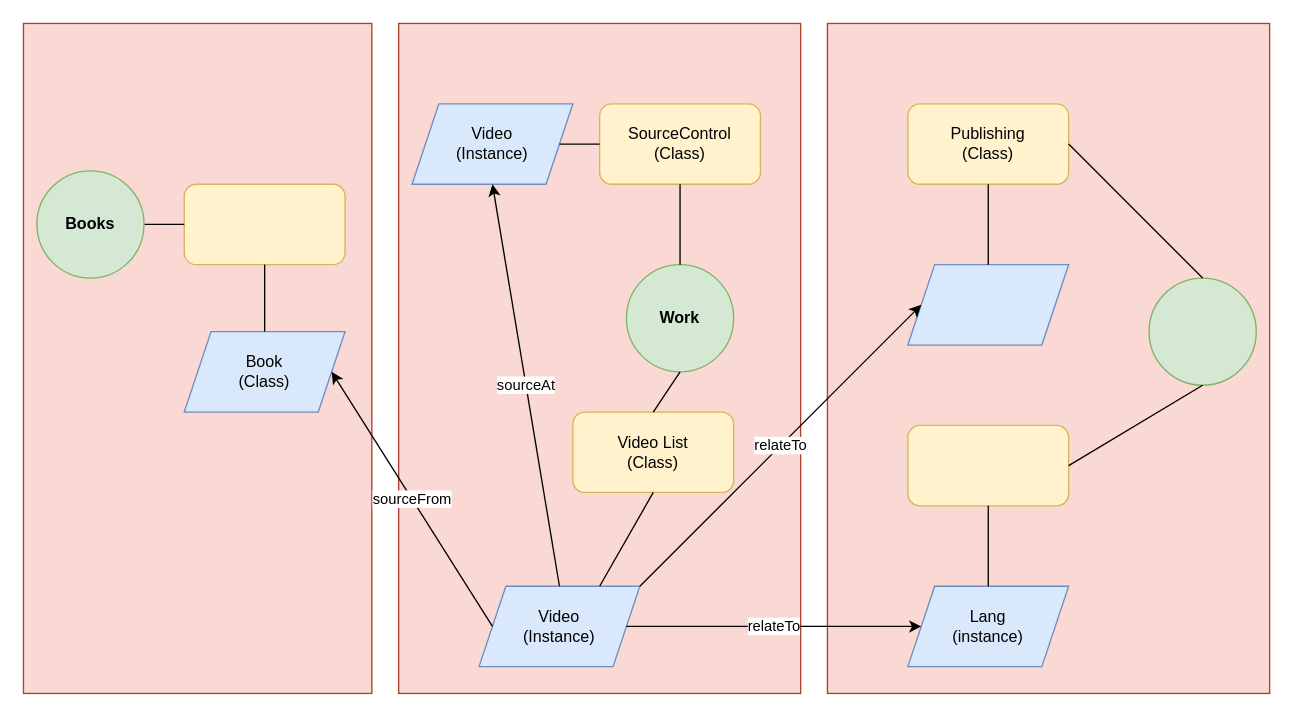
This 1293x717 diagram has some shape labels left out. Here are the shapes that lost their labels. From the top down, the centre of each, then its label:
the point at 264,224: TechBooks (Class)
the point at 988,304: LaTeX (Instance)
the point at 1202,331: Field
the point at 988,465: Dev (Class)
